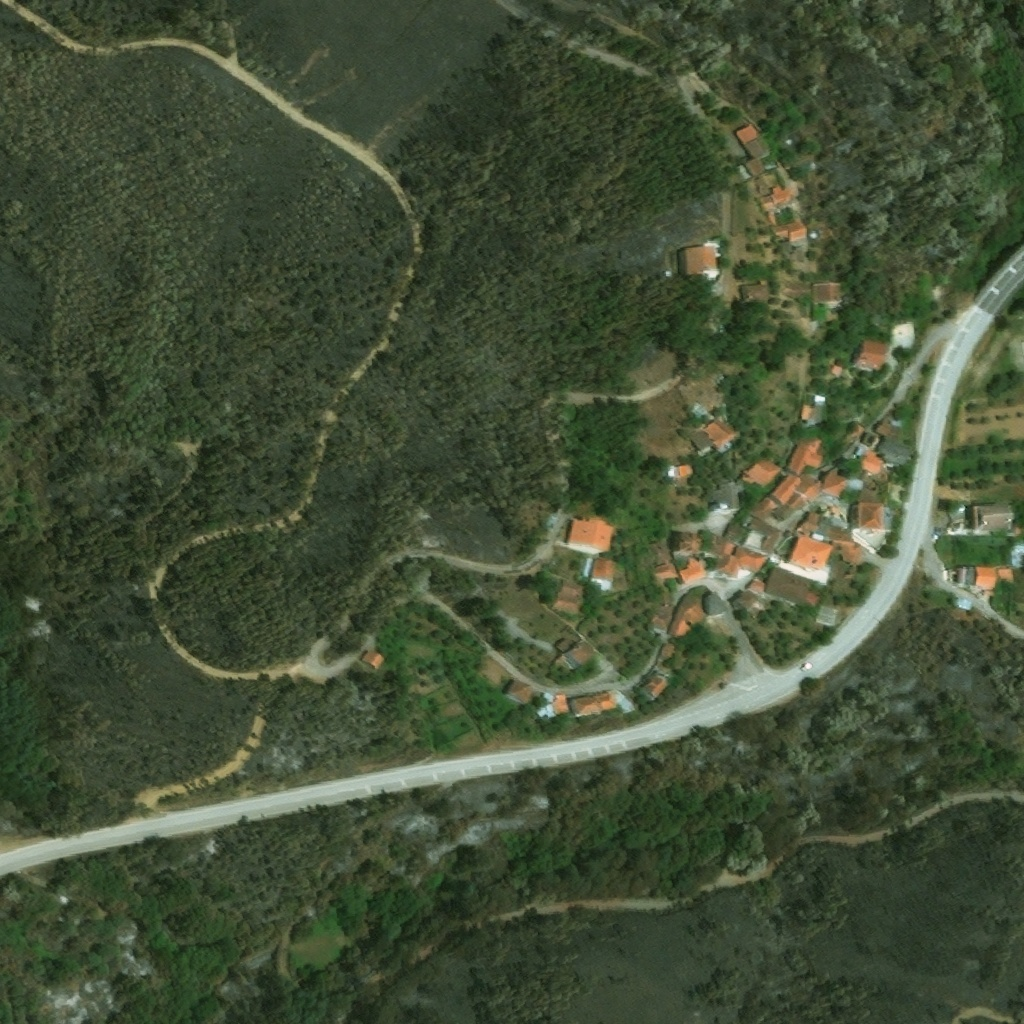0 no-damage: (795, 511, 862, 565), (852, 323, 910, 376), (700, 534, 768, 576), (765, 560, 822, 610), (768, 474, 821, 525), (786, 535, 833, 586), (870, 418, 915, 470), (733, 123, 776, 177), (565, 516, 616, 556), (571, 689, 639, 718), (689, 417, 738, 457), (732, 577, 775, 621), (668, 595, 707, 639), (677, 241, 721, 280), (784, 433, 823, 477), (741, 516, 781, 555), (554, 641, 596, 676), (964, 504, 1016, 532), (957, 566, 1014, 591), (847, 503, 891, 534), (740, 458, 782, 489), (653, 643, 688, 680), (811, 282, 855, 310), (553, 580, 586, 617), (854, 453, 891, 485), (708, 484, 743, 517), (839, 424, 865, 466), (582, 557, 613, 591), (758, 186, 793, 216), (647, 598, 672, 635), (770, 222, 806, 247), (638, 674, 670, 702), (640, 539, 672, 567), (537, 692, 571, 718), (801, 395, 827, 425), (848, 478, 879, 502), (505, 680, 534, 705), (749, 497, 777, 522), (672, 535, 701, 559), (821, 473, 847, 499), (651, 563, 678, 587), (701, 595, 728, 618), (815, 605, 840, 629), (741, 280, 768, 301), (676, 566, 702, 586), (360, 651, 386, 670), (778, 242, 803, 261), (723, 524, 745, 545), (668, 464, 693, 481), (955, 597, 974, 613)
4 un-classified: (1012, 545, 1023, 567)
